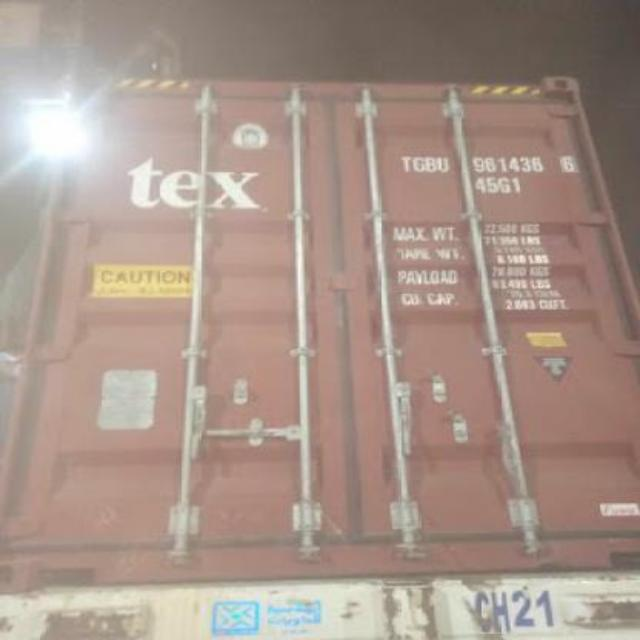1: (498, 156, 508, 174)
3: (518, 156, 532, 174)
4: (508, 154, 520, 172)
6: (484, 156, 498, 174), (532, 156, 544, 172), (562, 156, 574, 172)
9: (472, 156, 486, 174)
B: (424, 154, 436, 172)
G: (414, 156, 424, 174)
T: (396, 154, 412, 176)
U: (436, 154, 449, 174)
